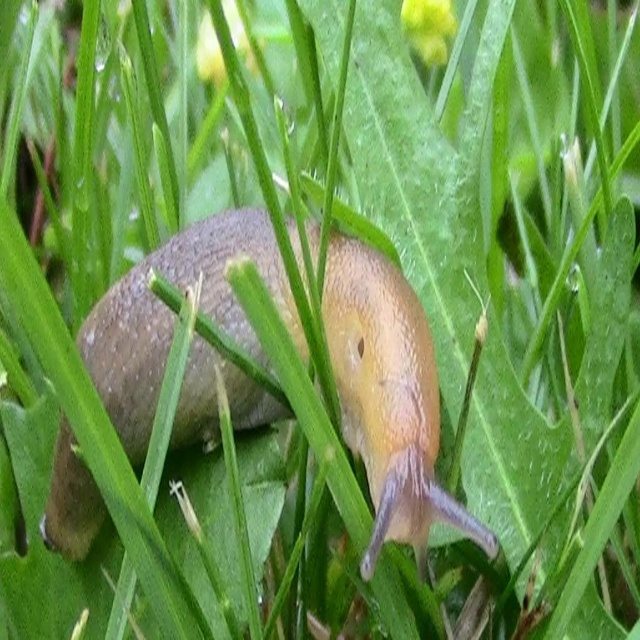Snail: (39, 204, 498, 582)
